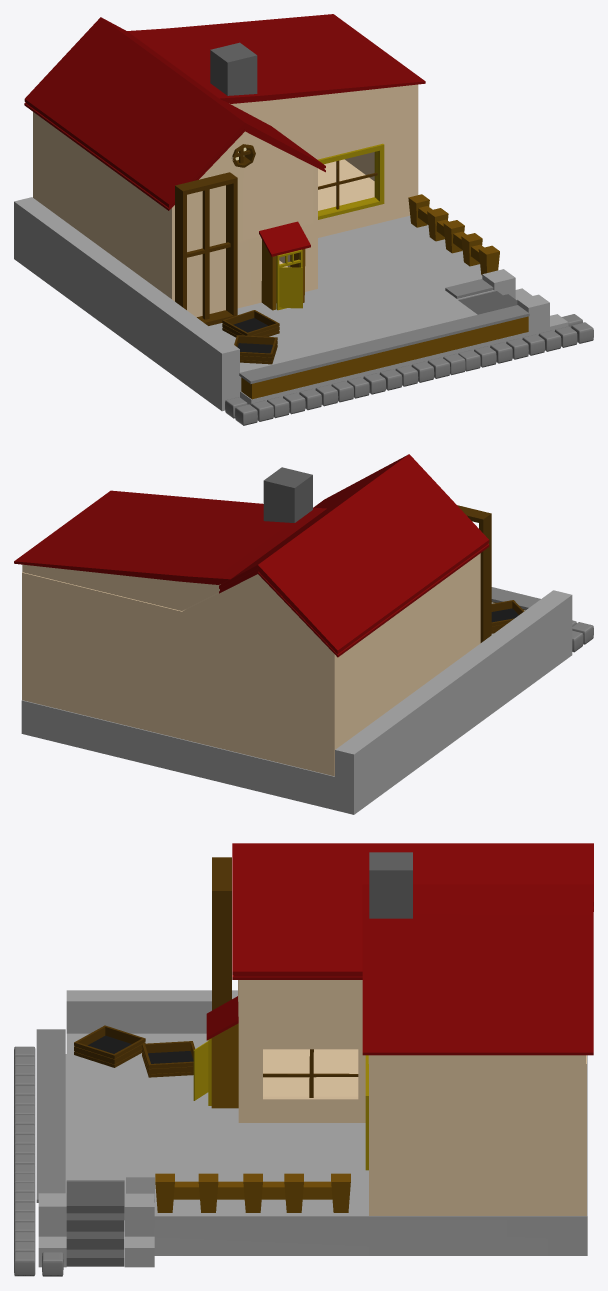
Rendered from home_scene.fbx.
The picture shows the model from 3 angles, top to bottom: view 1: azimuth 30°, elevation 25°; view 2: azimuth 150°, elevation 25°; view 3: azimuth 270°, elevation 25°; orthographic projection. The views are drawn at different scales.
Parts seen in each view (by area): view 1: pPrism1, pCube154, pCube82, pCube71, pCube143, pCube72, pCube108, pCube74, pCube81, pCube107; view 2: pCube154, pPrism1, pCube82, pCube72, pCube74, pCube71, pCube143; view 3: pPrism1, pCube82, pCube154, pCube143, pCube108, pCube107, pCube71, pCube74, pCube72, pCube81.
Boxes of the visible parts, x1,y1,x2,y2 form: pPrism1: (24,14,425,210); pCube154: (33,92,418,317); pCube82: (14,197,568,411); pCube71: (239,305,529,399); pCube143: (225,314,593,425); pCube72: (175,172,237,325); pCube108: (408,194,499,275); pCube74: (222,310,279,364); pCube81: (279,267,302,308); pCube107: (458,291,517,314); pCube154: (22,553,480,776); pPrism1: (14,454,489,657); pCube82: (21,590,572,814); pCube72: (457,505,491,642); pCube74: (491,600,524,633); pCube71: (491,587,540,610); pCube143: (572,620,593,652); pPrism1: (232,843,593,1063); pCube82: (38,990,587,1267); pCube154: (206,980,586,1215); pCube143: (14,1046,63,1276); pCube108: (155,1173,350,1212); pCube107: (66,1181,124,1266); pCube71: (36,1029,65,1202); pCube74: (74,1025,195,1077); pCube72: (212,857,231,1010); pCube81: (193,1041,208,1100).
Size of the model in its own units: 25.72 by 16.04 by 29.34.
